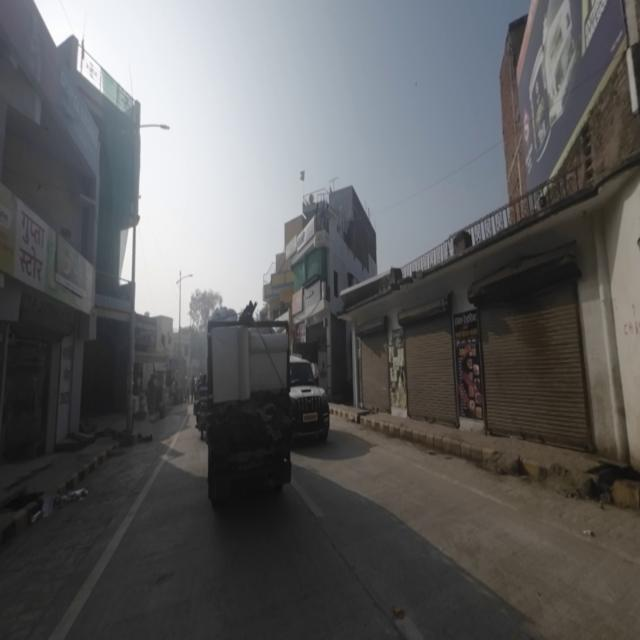Garbage: (62, 481, 90, 509)
